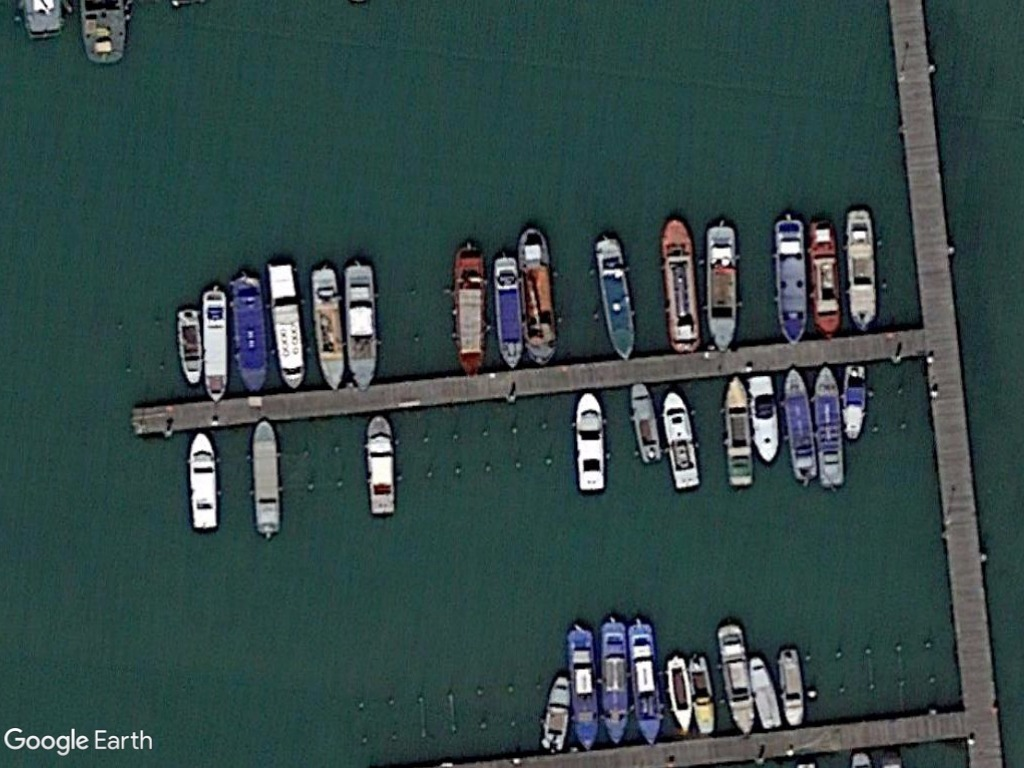boat: (657, 212, 705, 355), (263, 257, 312, 393), (591, 233, 642, 361), (514, 224, 559, 369), (697, 218, 741, 352), (450, 237, 492, 377), (341, 257, 382, 394), (768, 213, 810, 346), (778, 361, 820, 490), (228, 272, 272, 395), (711, 618, 757, 735), (841, 202, 882, 333), (309, 262, 349, 395), (811, 361, 849, 495), (657, 387, 705, 493), (246, 416, 286, 543), (626, 617, 665, 745), (563, 623, 602, 751), (806, 213, 844, 340), (489, 250, 528, 373), (594, 616, 630, 749), (721, 371, 758, 492), (570, 387, 610, 498), (364, 411, 403, 521), (198, 285, 233, 403), (187, 427, 223, 536), (745, 373, 785, 467), (627, 380, 665, 468), (663, 650, 697, 738), (539, 670, 574, 753), (685, 651, 718, 738), (776, 644, 808, 731), (174, 303, 205, 392), (747, 654, 782, 732), (839, 364, 872, 443)
